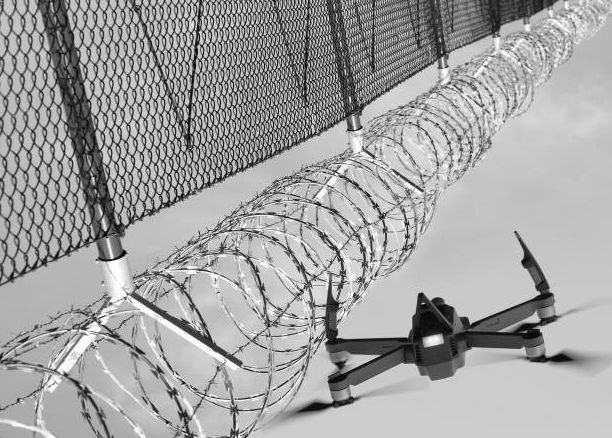Drone: (290, 225, 604, 418)
